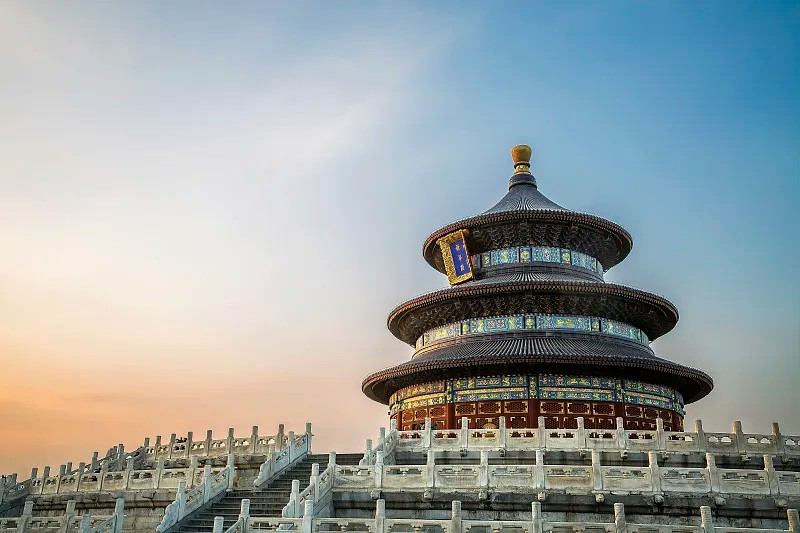Heaven: (362, 144, 714, 438)
